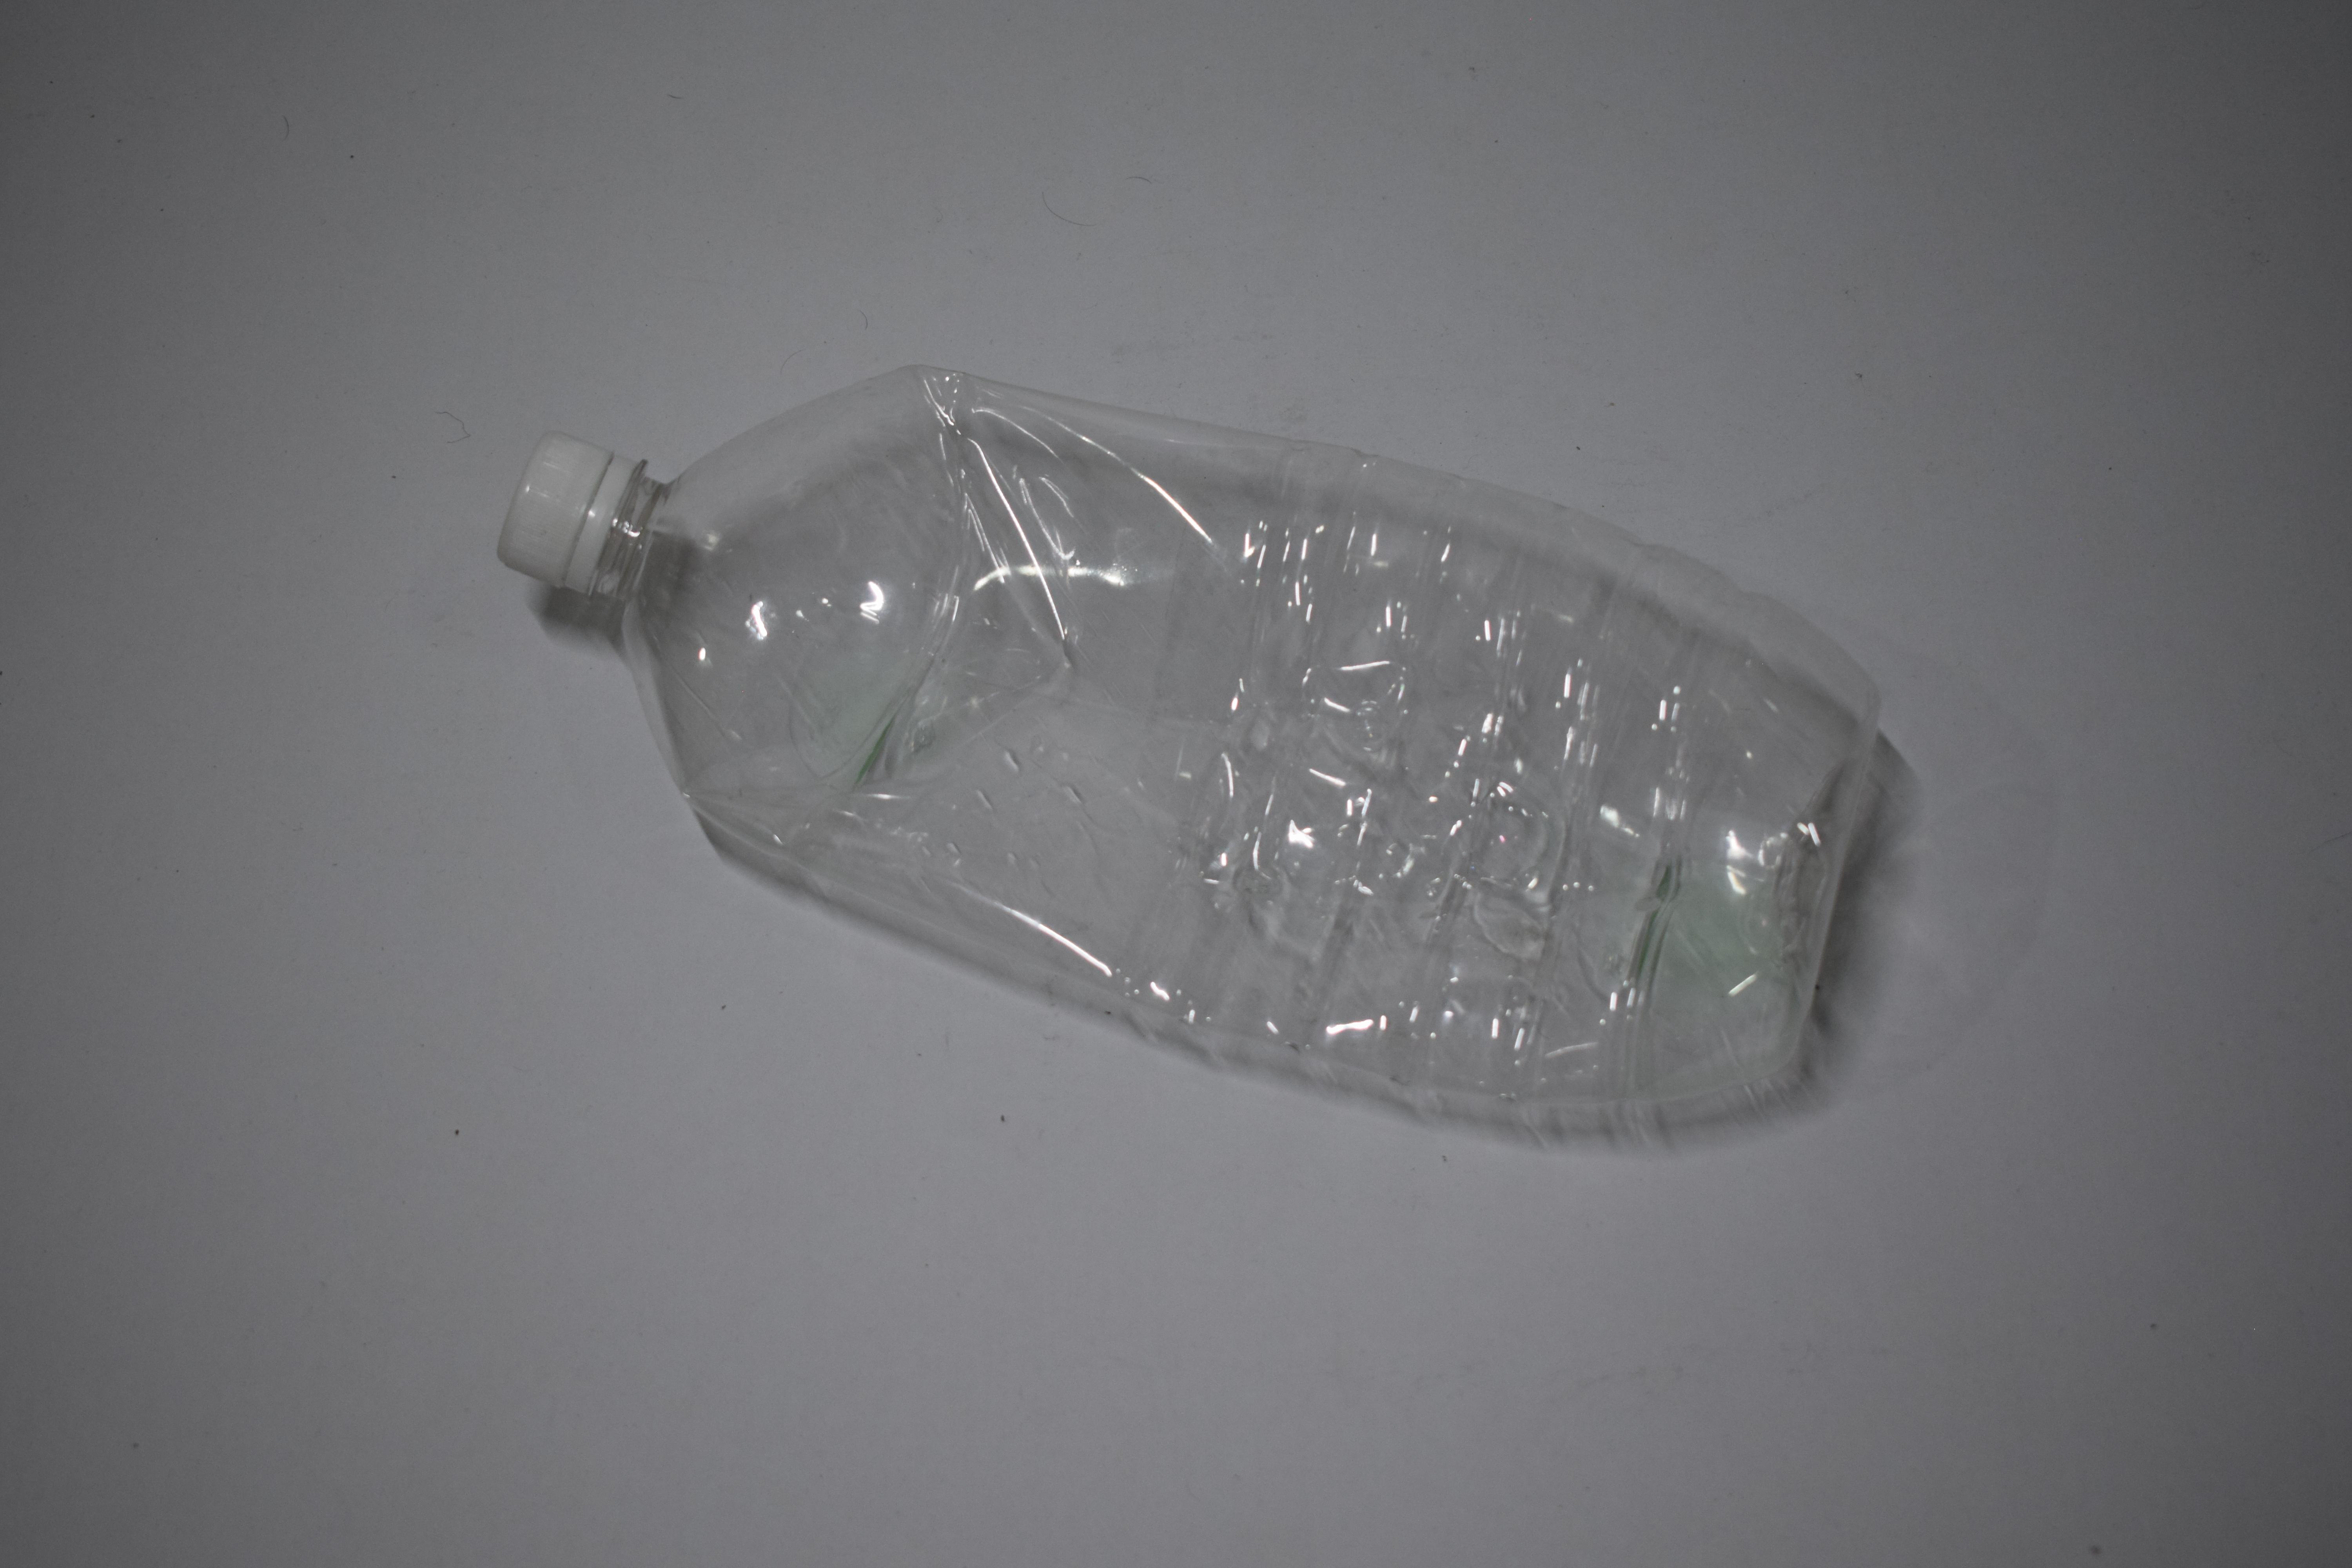bottle: (0, 742, 705, 759)
